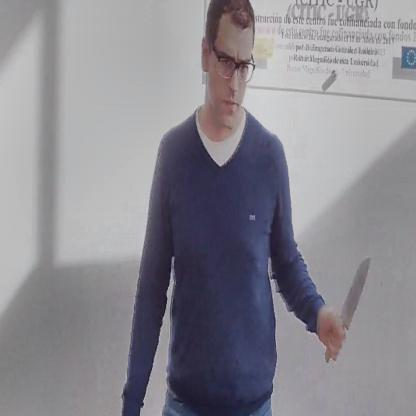knife: (323, 251, 374, 367)
